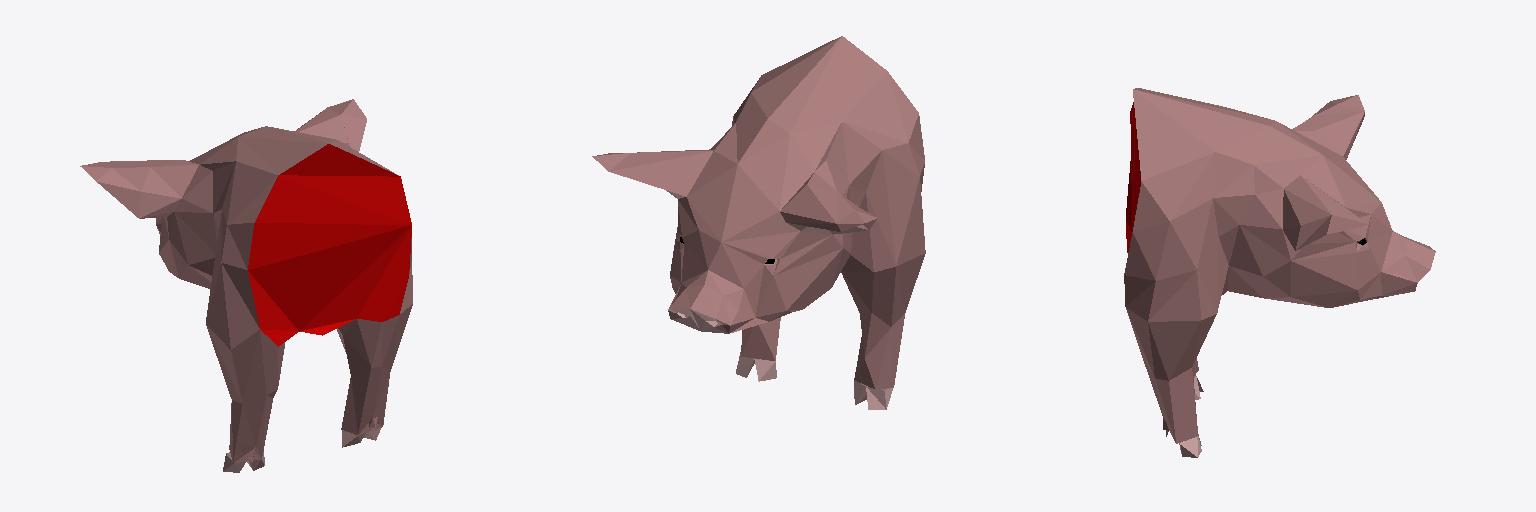
File: pig-part1.obj
3 renders of one model, left to right at view 1: azimuth 30°, elevation 25°; view 2: azimuth 150°, elevation 25°; view 3: azimuth 270°, elevation 25°, orthographic.
Visible parts, largest first — view 1: pig_pig_Material.001, pig_pig_Material, pig_pig_feet; view 2: pig_pig_Material.001, pig_pig_feet; view 3: pig_pig_Material.001, pig_pig_Material.
Part boxes in pixels (x1,y1,x2,y2): pig_pig_Material.001: (80, 99, 412, 462); pig_pig_Material: (248, 144, 411, 346); pig_pig_feet: (223, 428, 380, 472); pig_pig_Material.001: (592, 36, 925, 389); pig_pig_feet: (666, 190, 892, 409); pig_pig_Material.001: (1124, 88, 1435, 443); pig_pig_Material: (1126, 102, 1140, 251).
Bounding box in the file's own units: 0.5347 × 0.6221 × 0.5277.